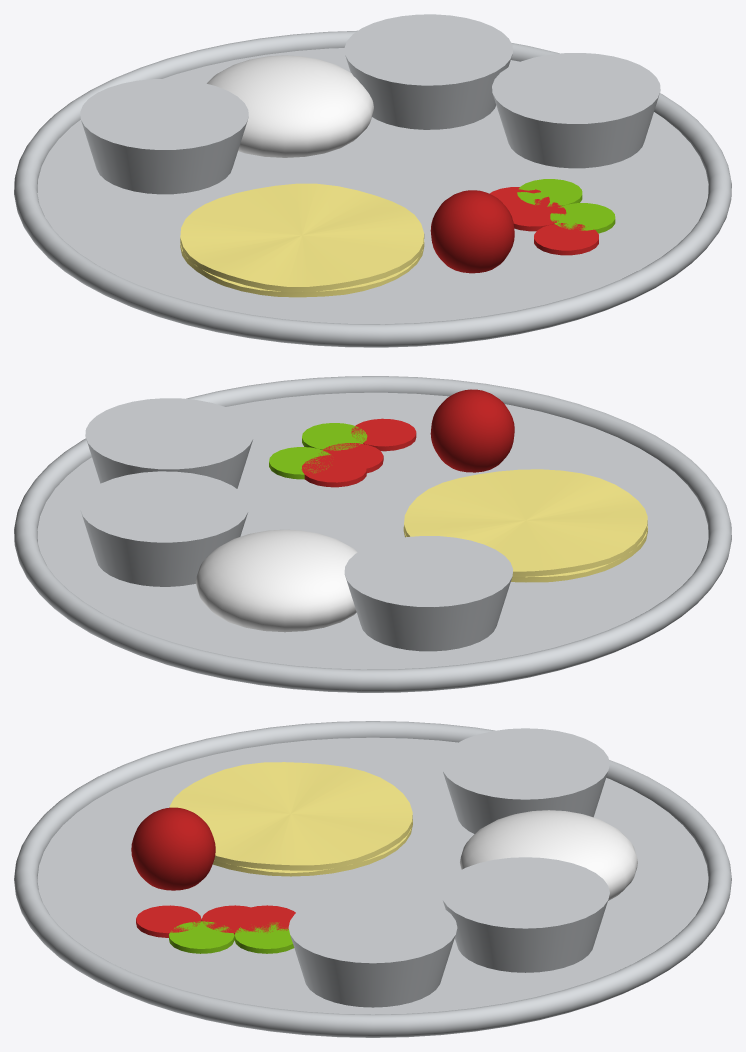
File: thali_gujarati_original.glb
3 renders of one model, top to bottom at view 1: azimuth 30°, elevation 25°; view 2: azimuth 150°, elevation 25°; view 3: azimuth 270°, elevation 25°, orthographic.
Parts seen in each view (by area): view 1: Steel_Thali_Plate, Gujarati_Balanced_Thali_Original, Rotli_Chapati_2, Dahi_Katori, Sabji_Katori, Dal_Katori, Steamed_Basmati_Rice, Fresh_Apple_Fruit, Tomato_Slice_4, Rotli_Chapati_1, Cucumber_Slice_3, Cucumber_Slice_1 (+2 smaller); view 2: Steel_Thali_Plate, Gujarati_Balanced_Thali_Original, Rotli_Chapati_2, Sabji_Katori, Dal_Katori, Steamed_Basmati_Rice, Dahi_Katori, Fresh_Apple_Fruit, Tomato_Slice_0, Tomato_Slice_4, Cucumber_Slice_3, Cucumber_Slice_1 (+2 smaller); view 3: Steel_Thali_Plate, Gujarati_Balanced_Thali_Original, Rotli_Chapati_2, Dahi_Katori, Dal_Katori, Sabji_Katori, Steamed_Basmati_Rice, Fresh_Apple_Fruit, Cucumber_Slice_3, Tomato_Slice_4, Cucumber_Slice_1, Rotli_Chapati_1 (+2 smaller).
Part boxes in pixels (x1,y1,x2,y2): Steel_Thali_Plate: (37, 48, 708, 324); Gujarati_Balanced_Thali_Original: (14, 30, 731, 347); Rotli_Chapati_2: (180, 183, 424, 292); Dahi_Katori: (492, 53, 660, 168); Sabji_Katori: (80, 79, 248, 194); Dal_Katori: (344, 14, 512, 129); Steamed_Basmati_Rice: (207, 55, 373, 157); Fresh_Apple_Fruit: (430, 190, 514, 273); Tomato_Slice_4: (534, 223, 598, 255); Rotli_Chapati_1: (180, 241, 424, 297); Cucumber_Slice_3: (550, 203, 615, 233); Cucumber_Slice_1: (517, 179, 582, 206); Steel_Thali_Plate: (37, 392, 708, 669); Gujarati_Balanced_Thali_Original: (14, 376, 731, 692); Rotli_Chapati_2: (404, 469, 647, 576); Sabji_Katori: (344, 536, 512, 651); Dal_Katori: (80, 471, 248, 586); Steamed_Basmati_Rice: (195, 529, 357, 632); Dahi_Katori: (85, 398, 253, 488); Fresh_Apple_Fruit: (430, 389, 514, 472); Tomato_Slice_0: (301, 455, 366, 487); Tomato_Slice_4: (351, 418, 416, 451); Cucumber_Slice_3: (302, 423, 367, 450); Cucumber_Slice_1: (269, 447, 330, 479); Steel_Thali_Plate: (37, 737, 708, 1014); Gujarati_Balanced_Thali_Original: (14, 721, 731, 1037); Rotli_Chapati_2: (169, 762, 412, 870); Dahi_Katori: (288, 892, 457, 1007); Dal_Katori: (441, 857, 609, 972); Sabji_Katori: (441, 728, 609, 833); Steamed_Basmati_Rice: (460, 810, 637, 900); Fresh_Apple_Fruit: (131, 807, 215, 890); Cucumber_Slice_3: (169, 921, 234, 953); Tomato_Slice_4: (136, 905, 201, 937); Cucumber_Slice_1: (234, 922, 294, 953); Rotli_Chapati_1: (212, 820, 412, 876).
Bounding box in the file's own units: 3.06 × 0.411 × 3.06.
